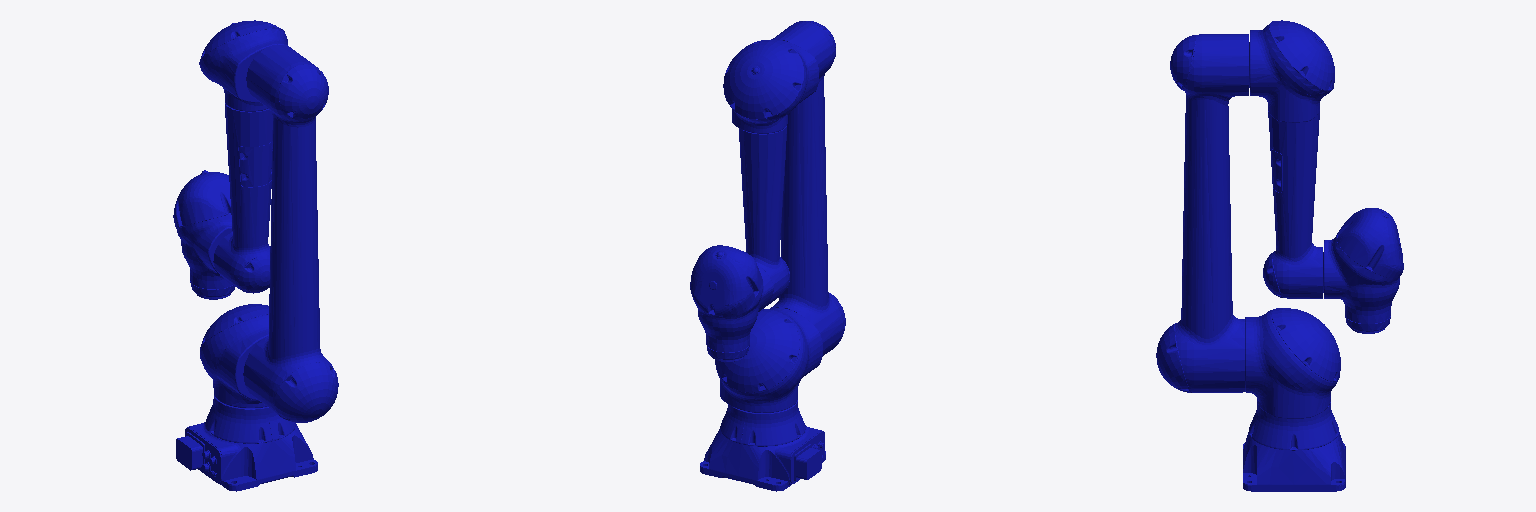
robot.urdf — motoman_hc10:
<?xml version="1.0" encoding="utf-8" ?>
<!-- =================================================================================== -->
<!-- |    This document was autogenerated by xacro from [local-path]/rosIn_ws/src/motoman/motoman_hc10_support/urdf/hc10.xacro | -->
<!-- |    EDITING THIS FILE BY HAND IS NOT RECOMMENDED                                 | -->
<!-- =================================================================================== -->
<robot name="motoman_hc10">

    <!-- Properties -->
    
    <material name="yaskawa_blue">
        <color rgba="0.12941 0.14902 0.74902 1" />
    </material>

    <!-- link list -->

    <link name="world"/>

    <link name="base_link">
        <visual>
            <geometry>
                <mesh filename="package://motoman_hc10_support/meshes/hc10/visual/base_link.dae" />
            </geometry>
            <material name="yaskawa_blue" />
        </visual>
        <collision>
            <geometry>
                <mesh filename="package://motoman_hc10_support/meshes/hc10/collision/base_link.stl" />
            </geometry>
        </collision>
        <inertial>
            <mass value="0.1" />
            <inertia ixx="0.03" iyy="0.03" izz="0.03" ixy="0.0" ixz="0.0" iyz="0.0" />
        </inertial>
    </link>

    <link name="link_1_s">
        <visual>
            <geometry>
                <mesh filename="package://motoman_hc10_support/meshes/hc10/visual/link_1_s.dae" />
            </geometry>
            <material name="yaskawa_blue" />
        </visual>
        <collision>
            <geometry>
                <mesh filename="package://motoman_hc10_support/meshes/hc10/collision/link_1_s.stl" />
            </geometry>
        </collision>
        <inertial>
            <mass value="0.1" />
            <inertia ixx="0.03" iyy="0.03" izz="0.03" ixy="0.0" ixz="0.0" iyz="0.0" />
        </inertial>
    </link>

    <link name="link_2_l">
        <visual>
            <geometry>
                <mesh filename="package://motoman_hc10_support/meshes/hc10/visual/link_2_l.dae" />
            </geometry>
            <material name="yaskawa_blue" />
        </visual>
        <collision>
            <geometry>
                <mesh filename="package://motoman_hc10_support/meshes/hc10/collision/link_2_l.stl" />
            </geometry>
        </collision>
        <inertial>
            <mass value="0.1" />
            <inertia ixx="0.03" iyy="0.03" izz="0.03" ixy="0.0" ixz="0.0" iyz="0.0" />
        </inertial>
    </link>

    <link name="link_3_u">
        <visual>
            <geometry>
                <mesh filename="package://motoman_hc10_support/meshes/hc10/visual/link_3_u.dae" />
            </geometry>
            <material name="yaskawa_blue" />
        </visual>
        <collision>
            <geometry>
                <mesh filename="package://motoman_hc10_support/meshes/hc10/collision/link_3_u.stl" />
            </geometry>
        </collision>
        <inertial>
            <mass value="0.1" />
            <inertia ixx="0.03" iyy="0.03" izz="0.03" ixy="0.0" ixz="0.0" iyz="0.0" />
        </inertial>
    </link>

    <link name="link_4_r">
        <visual>
            <geometry>
                <mesh filename="package://motoman_hc10_support/meshes/hc10/visual/link_4_r.dae" />
            </geometry>
            <material name="yaskawa_blue" />
        </visual>
        <collision>
            <geometry>
                <mesh filename="package://motoman_hc10_support/meshes/hc10/collision/link_4_r.stl" />
            </geometry>
        </collision>
        <inertial>
            <mass value="0.1" />
            <inertia ixx="0.03" iyy="0.03" izz="0.03" ixy="0.0" ixz="0.0" iyz="0.0" />
        </inertial>
    </link>

    <link name="link_5_b">
        <visual>
            <geometry>
                <mesh filename="package://motoman_hc10_support/meshes/hc10/visual/link_5_b.dae" />
            </geometry>
            <material name="yaskawa_blue" />
        </visual>
        <collision>
            <geometry>
                <mesh filename="package://motoman_hc10_support/meshes/hc10/collision/link_5_b.stl" />
            </geometry>
        </collision>
        <inertial>
            <mass value="0.1" />
            <inertia ixx="0.03" iyy="0.03" izz="0.03" ixy="0.0" ixz="0.0" iyz="0.0" />
        </inertial>
    </link>

    <link name="link_6_t">
        <visual>
            <geometry>
                <mesh filename="package://motoman_hc10_support/meshes/hc10/visual/link_6_t.dae" />
            </geometry>
            <material name="yaskawa_blue" />
        </visual>
        <collision>
            <geometry>
                <mesh filename="package://motoman_hc10_support/meshes/hc10/collision/link_6_t.stl" />
            </geometry>
        </collision>
        <inertial>
            <mass value="0.1" />
            <inertia ixx="0.03" iyy="0.03" izz="0.03" ixy="0.0" ixz="0.0" iyz="0.0" />
        </inertial>
    </link>

    <link name="tool0" />

    <!-- end of link list -->

    <!-- joint list -->
    <joint name="fixed" type="fixed">
        <parent link="world" />
        <child link="base_link" />
    </joint>
    
    <joint name="joint_1_s" type="revolute">
        <parent link="base_link" />
        <child link="link_1_s" />
        <origin rpy="0 0 0" xyz="0 0 0.275" />
        <axis xyz="0 0 1" />
        <limit effort="368.48" lower="-3.14159265359" upper="3.14159265359" velocity="2.26892802759" />
    </joint>
    <joint name="joint_2_l" type="revolute">
        <parent link="link_1_s" />
        <child link="link_2_l" />
        <origin rpy="0 0 0" xyz="0 0 0" />
        <axis xyz="0 1 0" />
        <limit effort="368.48" lower="-3.14159265359" upper="3.14159265359" velocity="2.26892802759" />
    </joint>
    <joint name="joint_3_u" type="revolute">
        <parent link="link_2_l" />
        <child link="link_3_u" />
        <origin rpy="0 0 0" xyz="0 0 0.700" />
        <axis xyz="0 -1 0" />
        <limit effort="141.12" lower="-0.0872664625997" upper="6.19591884458" velocity="3.14159265359" />
    </joint>
    <joint name="joint_4_r" type="revolute">
        <parent link="link_3_u" />
        <child link="link_4_r" />
        <origin rpy="0 0 0" xyz="0 0 -0.500" />
        <axis xyz="0 0 1" />
        <limit effort="39.20" lower="-3.14159265359" upper="3.14159265359" velocity="3.14159265359" />
    </joint>
    <joint name="joint_5_b" type="revolute">
        <parent link="link_4_r" />
        <child link="link_5_b" />
        <origin rpy="0 0 0" xyz="0 0.162 0" />
        <axis xyz="0 -1 0" />
        <limit effort="31.36" lower="-3.14159265359" upper="3.14159265359" velocity="4.36332312999" />
    </joint>
    <joint name="joint_6_t" type="revolute">
        <parent link="link_5_b" />
        <child link="link_6_t" />
        <origin rpy="0 0 0" xyz="0 0 0" />
        <axis xyz="0 0 1" />
        <limit effort="31.36" lower="-3.14159265359" upper="3.14159265359" velocity="4.36332312999" />
    </joint>
    <joint name="joint_6_t-tool0" type="fixed">
        <origin rpy="3.14159265359 0 0" xyz="0 0 -0.130" />
        <parent link="link_6_t" />
        <child link="tool0" />
    </joint>

    <!-- end of joint list -->

    <!-- ROS base_link to Robot Manufacturer World Coordinates transform -->
    <link name="base" />

    <!-- Fix robot base to world -->
    <joint name="base_link-base" type="fixed">
        <parent link="world" />
        <child link="base" />
    </joint>
    
    <transmission name="trans_joint_1_s">
        <type>transmission_interface/SimpleTransmission</type>
        <joint name="joint_1_s">
            <hardwareInterface>hardware_interface/EffortJointInterface</hardwareInterface>
        </joint>
        <actuator name="joint_1_s_motor">
            <hardwareInterface>hardware_interface/EffortJointInterface</hardwareInterface>
            <mechanicalReduction>1</mechanicalReduction>
        </actuator>
    </transmission>

    <transmission name="trans_joint_2_l">
        <type>transmission_interface/SimpleTransmission</type>
        <joint name="joint_2_l">
            <hardwareInterface>hardware_interface/EffortJointInterface</hardwareInterface>
        </joint>
        <actuator name="joint_2_l_motor">
            <hardwareInterface>hardware_interface/EffortJointInterface</hardwareInterface>
            <mechanicalReduction>1</mechanicalReduction>
        </actuator>
    </transmission>

    <transmission name="trans_joint_3_u">
        <type>transmission_interface/SimpleTransmission</type>
        <joint name="joint_3_u">
            <hardwareInterface>hardware_interface/EffortJointInterface</hardwareInterface>
        </joint>
        <actuator name="joint_3_u_motor">
            <hardwareInterface>hardware_interface/EffortJointInterface</hardwareInterface>
            <mechanicalReduction>1</mechanicalReduction>
        </actuator>
    </transmission>

    <transmission name="trans_joint_4_r">
        <type>transmission_interface/SimpleTransmission</type>
        <joint name="joint_4_r">
            <hardwareInterface>hardware_interface/EffortJointInterface</hardwareInterface>
        </joint>
        <actuator name="joint_4_r_motor">
            <hardwareInterface>hardware_interface/EffortJointInterface</hardwareInterface>
            <mechanicalReduction>1</mechanicalReduction>
        </actuator>
    </transmission>

    <transmission name="trans_joint_5_b">
        <type>transmission_interface/SimpleTransmission</type>
        <joint name="joint_5_b">
            <hardwareInterface>hardware_interface/EffortJointInterface</hardwareInterface>
        </joint>
        <actuator name="joint_5_b_motor">
            <hardwareInterface>hardware_interface/EffortJointInterface</hardwareInterface>
            <mechanicalReduction>1</mechanicalReduction>
        </actuator>
    </transmission>

    <transmission name="trans_joint_6_t">
        <type>transmission_interface/SimpleTransmission</type>
        <joint name="joint_6_t">
            <hardwareInterface>hardware_interface/EffortJointInterface</hardwareInterface>
        </joint>
        <actuator name="joint_6_t_motor">
            <hardwareInterface>hardware_interface/EffortJointInterface</hardwareInterface>
            <mechanicalReduction>1</mechanicalReduction>
        </actuator>
    </transmission>

    <gazebo>
        <plugin name="gazebo_ros_control" filename="libgazebo_ros_control.so">
            <robotNamespace>/motoman_hc10</robotNamespace>
            <robotSimType>gazebo_ros_control/DefaultRobotHWSim</robotSimType>
        </plugin>
    </gazebo>
</robot>

--- What the picture shows (computed from the rendered views, not written in the file) ---
The picture shows the robot from 3 angles, left to right: view 1: azimuth 30°, elevation 25°; view 2: azimuth 150°, elevation 25°; view 3: azimuth 270°, elevation 25°; orthographic projection.
Robot: motoman_hc10 — 10 links, 9 joints (6 revolute, 3 fixed); root link world; default pose: every joint at zero.
Links seen in each view (by area): view 1: link_2_l, base_link, link_4_r, link_5_b, link_1_s, link_3_u; view 2: link_2_l, base_link, link_1_s, link_3_u, link_5_b, link_4_r; view 3: link_2_l, link_1_s, link_4_r, base_link, link_5_b, link_3_u.
Boxes of the visible links, x1=… form: link_2_l: x1=243, y1=44, x2=338, y2=422; base_link: x1=176, y1=396, x2=317, y2=491; link_4_r: x1=213, y1=103, x2=272, y2=293; link_5_b: x1=173, y1=170, x2=232, y2=289; link_1_s: x1=200, y1=304, x2=268, y2=407; link_3_u: x1=199, y1=20, x2=290, y2=111; link_2_l: x1=770, y1=21, x2=845, y2=356; base_link: x1=700, y1=400, x2=825, y2=491; link_1_s: x1=715, y1=308, x2=822, y2=412; link_3_u: x1=723, y1=39, x2=818, y2=133; link_5_b: x1=690, y1=245, x2=773, y2=352; link_4_r: x1=739, y1=126, x2=789, y2=305; link_2_l: x1=1156, y1=34, x2=1248, y2=392; link_1_s: x1=1245, y1=308, x2=1340, y2=418; link_4_r: x1=1263, y1=111, x2=1322, y2=298; base_link: x1=1243, y1=402, x2=1345, y2=491; link_5_b: x1=1323, y1=208, x2=1403, y2=323; link_3_u: x1=1249, y1=20, x2=1334, y2=122.
Bounding box of the posed robot: 0.2646 × 0.5404 × 1.07 m (x, y, z).
Meshes: 7 distinct files referenced, 7 mesh visuals loaded (7 Collada DAE).